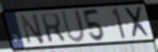1: (111, 7, 128, 40)
5: (82, 8, 107, 43)
N: (19, 12, 46, 46)
R: (39, 12, 68, 44)
U: (60, 9, 87, 45)
X: (122, 6, 153, 40)
